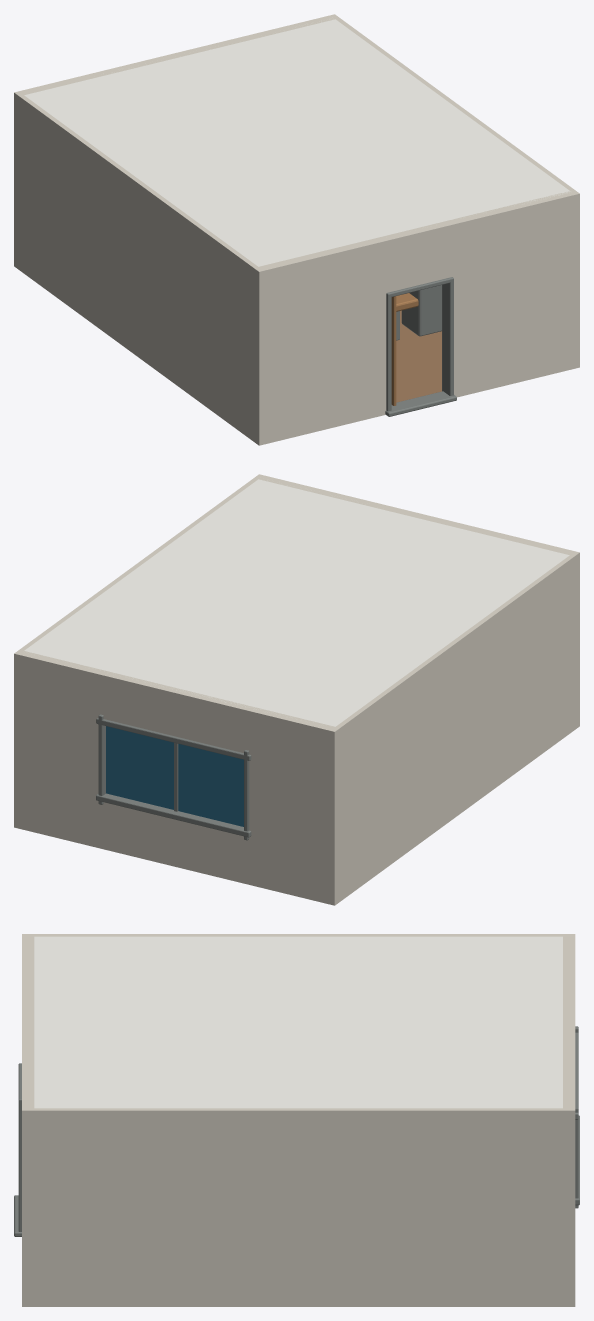
The model's file is meeting_room_demo.glb.
The picture shows the model from 3 angles, top to bottom: view 1: azimuth 30°, elevation 25°; view 2: azimuth 150°, elevation 25°; view 3: azimuth 270°, elevation 25°; orthographic projection. The views are drawn at different scales.
Parts seen in each view (by area): view 1: room_shell_envelope, room_ceiling_slab, room_floor_slab, meeting_chair_4, door_jamb_right, door_threshold, door_jamb_left, door_leaf_open; view 2: room_shell_envelope, room_ceiling_slab, window_glass, window_sill, window_head, window_frame_right; view 3: room_shell_envelope, room_ceiling_slab, door_jamb_right.
Boxes of the visible parts, <box> form: room_shell_envelope: <box>14,14,579,445</box>; room_ceiling_slab: <box>24,17,570,266</box>; room_floor_slab: <box>396,310,441,402</box>; meeting_chair_4: <box>401,285,441,336</box>; door_jamb_right: <box>442,281,453,395</box>; door_threshold: <box>385,391,456,416</box>; door_jamb_left: <box>386,296,391,411</box>; door_leaf_open: <box>391,296,396,405</box>; room_shell_envelope: <box>14,474,579,905</box>; room_ceiling_slab: <box>24,479,569,726</box>; window_glass: <box>106,726,243,826</box>; window_sill: <box>96,793,251,837</box>; window_head: <box>96,717,251,760</box>; window_frame_right: <box>98,714,105,804</box>; room_shell_envelope: <box>22,934,575,1306</box>; room_ceiling_slab: <box>34,936,562,1108</box>; door_jamb_right: <box>18,1103,21,1231</box>.
Size of the model in its own units: 6.18 by 3.2 by 8.37.
